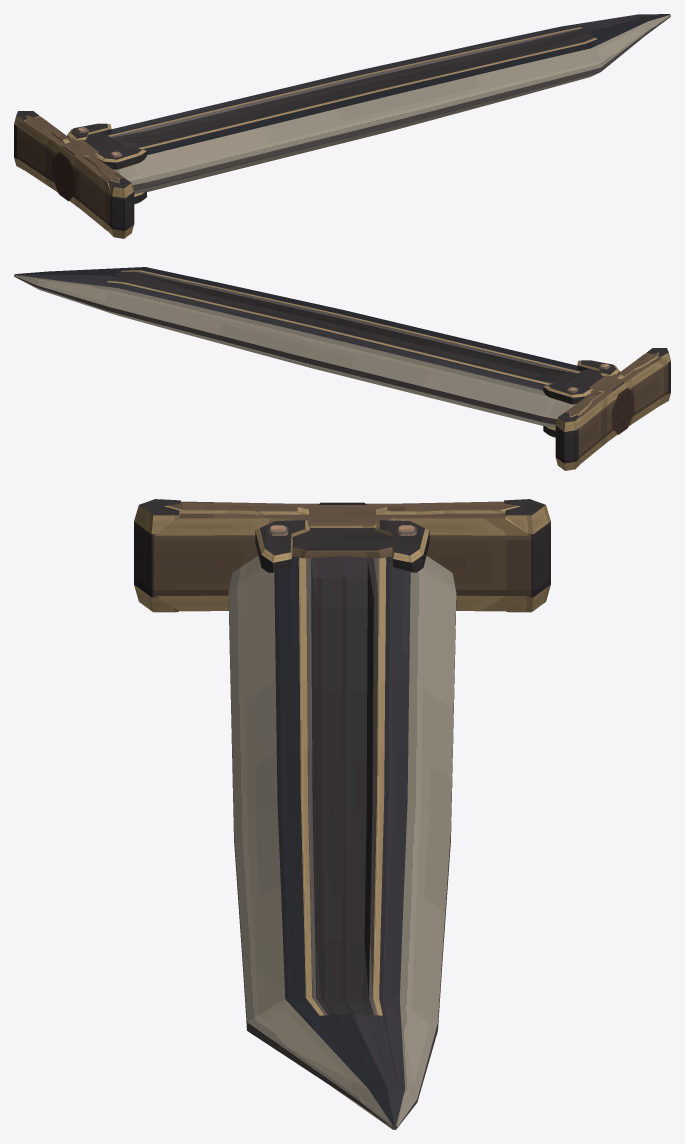
The model's file is bench_xuantie_sword_4.obj.
3 views of the same model, one above another, from view 1: azimuth 30°, elevation 25°; view 2: azimuth 150°, elevation 25°; view 3: azimuth 270°, elevation 25° (orthographic). The views are drawn at different scales.
Visible parts, largest first — view 1: geometry; view 2: geometry; view 3: geometry.
Boxes of the visible parts, x1,y1,x2,y2 form: geometry: (14, 14, 670, 238); geometry: (14, 267, 670, 470); geometry: (134, 499, 550, 1129).
Size of the model in its own units: 0.75 by 0.0616 by 0.2272.
